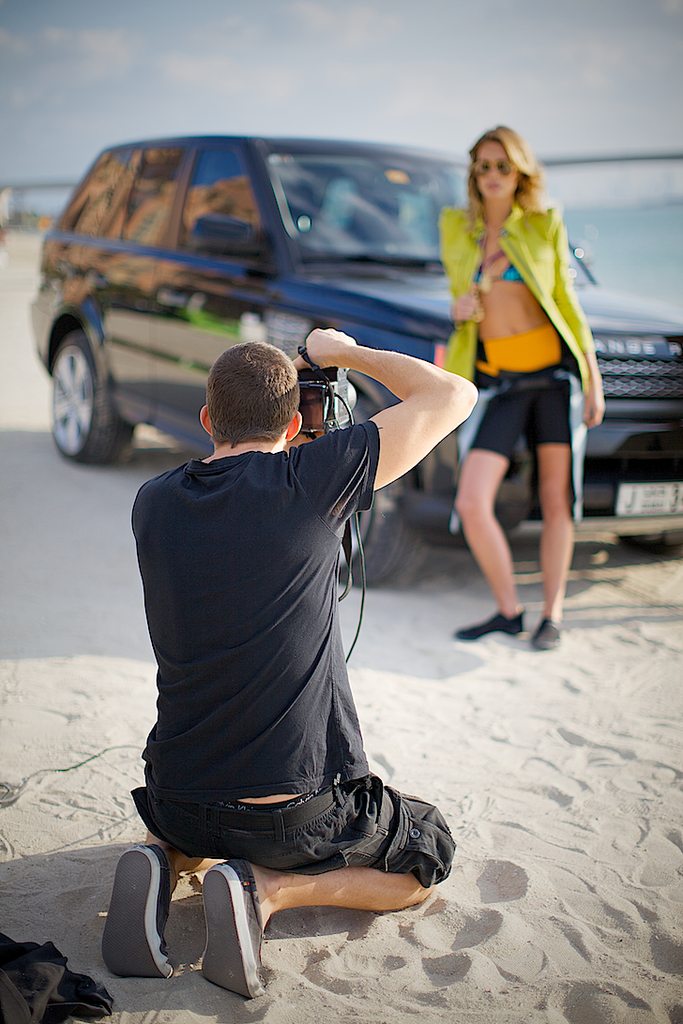Car: (20, 162, 557, 631)
